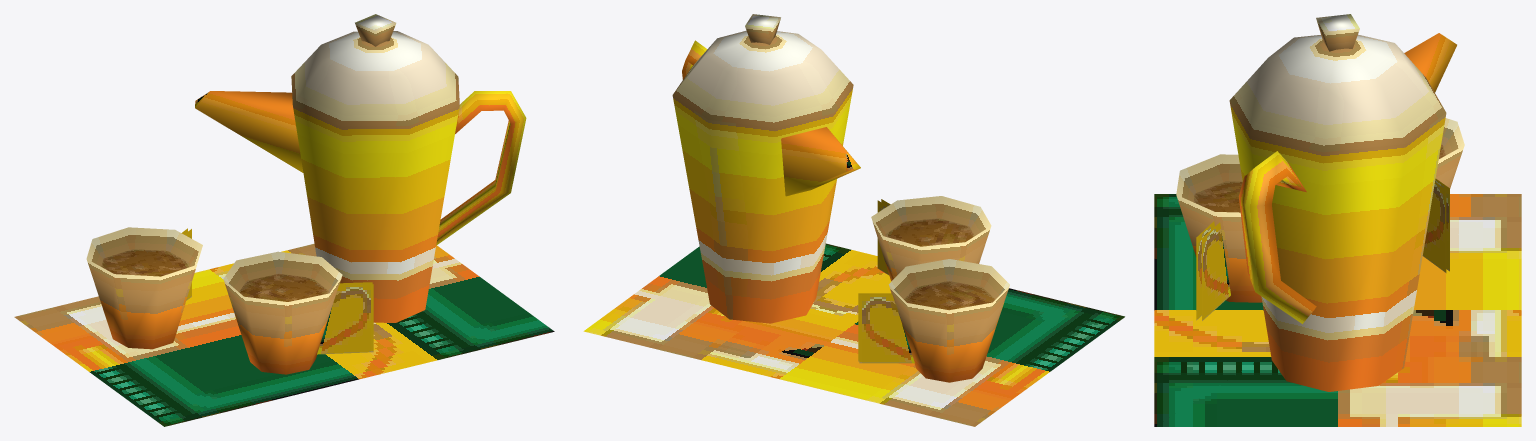
File: int_oth_teaset.dae
3 views of the same model, side by side, from view 1: azimuth 30°, elevation 25°; view 2: azimuth 150°, elevation 25°; view 3: azimuth 270°, elevation 25° (orthographic). The views are drawn at different scales.
Visible parts, largest first — view 1: int_oth_teaset; view 2: int_oth_teaset; view 3: int_oth_teaset.
Part boxes in pixels (bbox=[...]): int_oth_teaset: bbox=[14, 14, 554, 426]; int_oth_teaset: bbox=[583, 14, 1124, 426]; int_oth_teaset: bbox=[1154, 14, 1521, 426].
Bounding box in the file's own units: 24.56 × 16.4 × 16.
2 materials, 2 textured.
